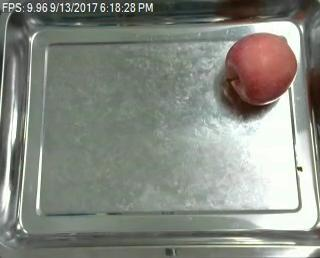apple: (226, 31, 297, 107)
